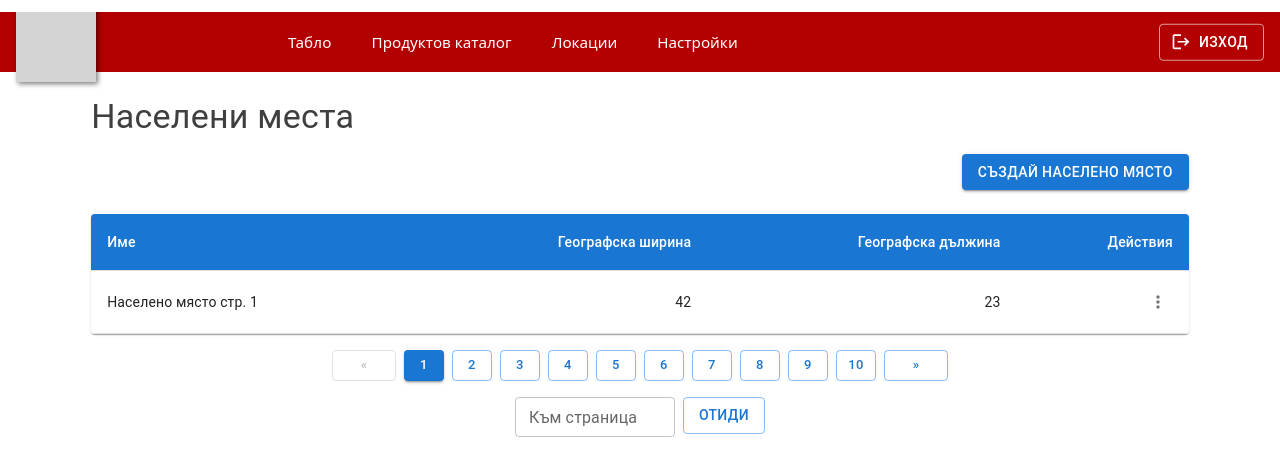
Test: Settlements page › jumps to a specific page through the jump field
Expected: the button named "Страница 10" is shown, top-left (836, 350), bottom-right (876, 381)
Type "7" into the number field labelled "Към страница" at coordinates (595, 417), box top-left (515, 397), bottom-right (675, 437)
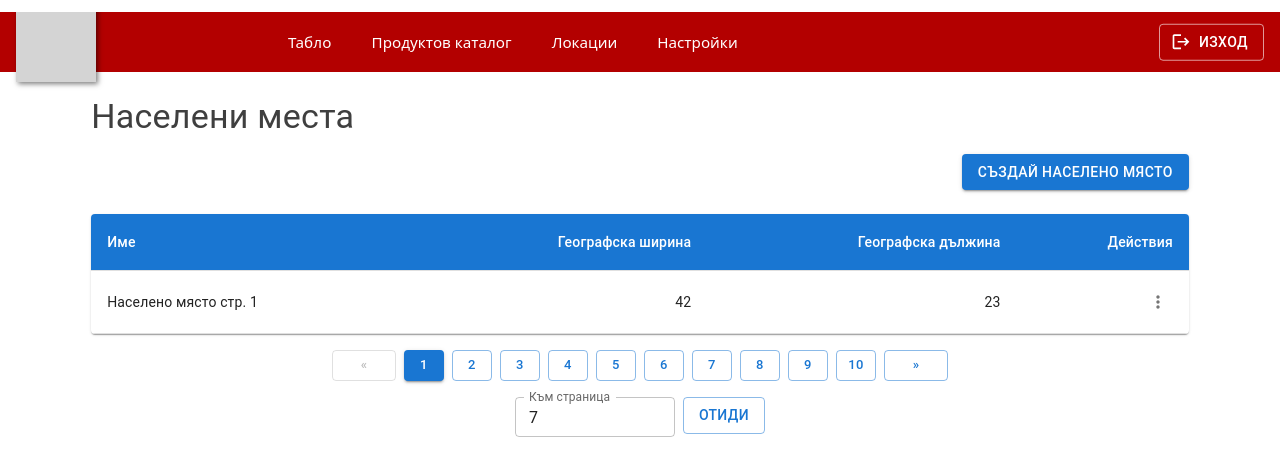
Click the button "Отиди" at coordinates (724, 415), box top-left (683, 397), bottom-right (765, 434)
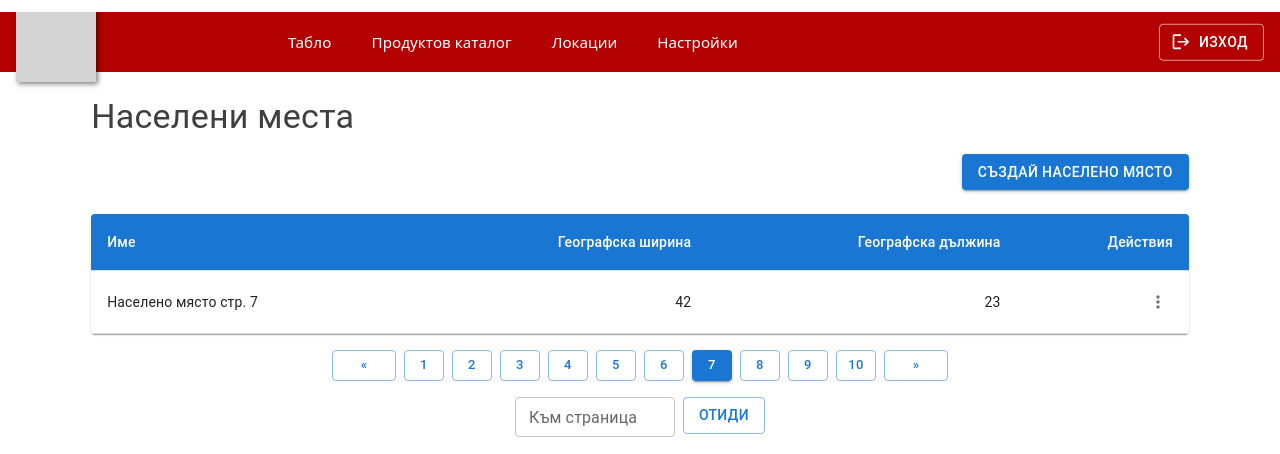
Expected: the text "Населено място стр. 7" is shown, top-left (91, 271), bottom-right (415, 334)
